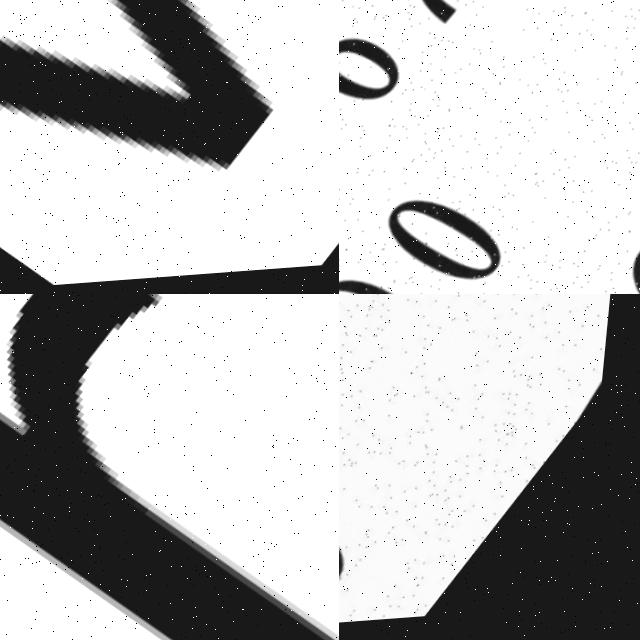0: (349, 148, 546, 294), (339, 415, 416, 640)
6: (339, 0, 439, 151)
7: (339, 0, 505, 70)
9: (339, 236, 476, 294)
R: (0, 294, 339, 640)
W: (0, 0, 339, 294)
